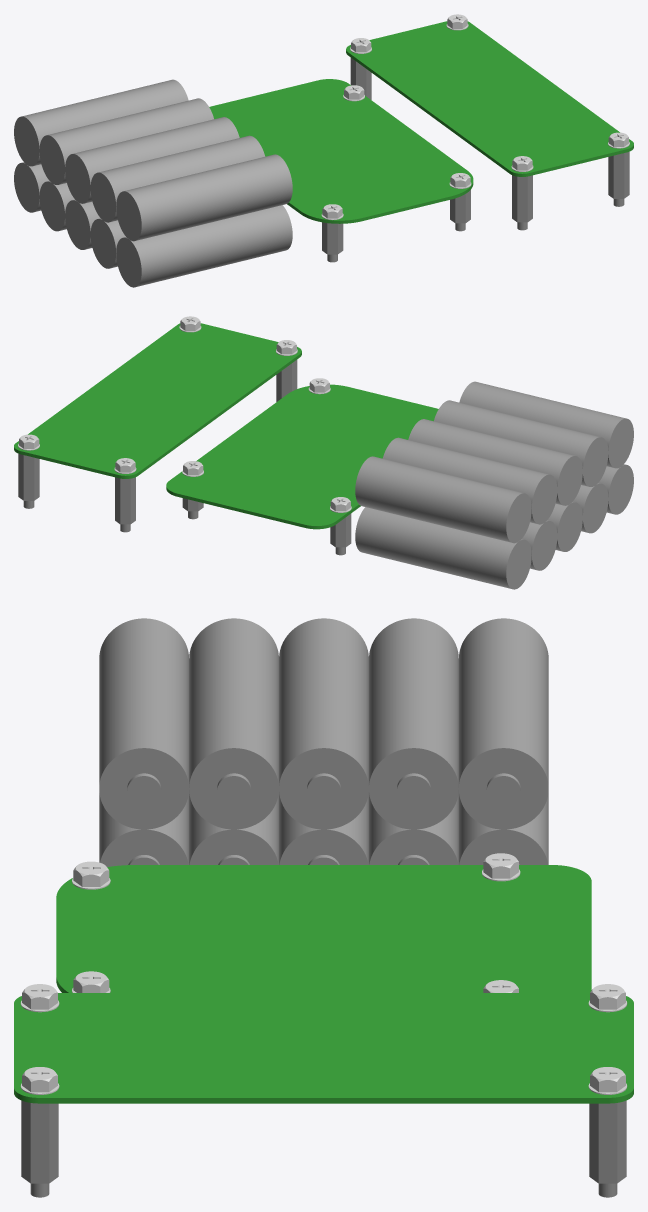
3 views of the same model, one above another, from view 1: azimuth 30°, elevation 25°; view 2: azimuth 150°, elevation 25°; view 3: azimuth 270°, elevation 25° (orthographic). The views are drawn at different scales.
Parts seen in each view (by area): view 1: out-motorcontroller-board, out-controller-board, out-battpack-battery_009, out-battpack-battery_008, out-battpack-battery_007, out-battpack-battery_003, out-battpack-battery_005, out-battpack-battery_001, out-battpack-battery_006, out-battpack-battery_002, out-battpack-battery_000, out-battpack-battery_004 (+5 smaller); view 2: out-motorcontroller-board, out-controller-board, out-battpack-battery_001, out-battpack-battery_000, out-battpack-battery_003, out-battpack-battery_007, out-battpack-battery_005, out-battpack-battery_009, out-battpack-battery_002, out-battpack-battery_006, out-battpack-battery_008, out-battpack-battery_004 (+4 smaller); view 3: out-controller-board, out-motorcontroller-board, out-battpack-battery_009, out-battpack-battery_001, out-battpack-battery_007, out-battpack-battery_003, out-battpack-battery_005, out-battpack-battery_008, out-battpack-battery_006, out-battpack-battery_002, out-battpack-battery_004, out-battpack-battery_000 (+8 smaller).
Boxes of the visible parts, x1,y1,x2,y2 form: out-motorcontroller-board: (346,21,633,176); out-controller-board: (209,79,473,223); out-battpack-battery_009: (116,154,292,241); out-battpack-battery_008: (116,205,292,287); out-battpack-battery_007: (90,135,265,222); out-battpack-battery_003: (39,98,213,184); out-battpack-battery_005: (65,117,239,203); out-battpack-battery_001: (14,79,188,166); out-battpack-battery_006: (90,218,125,268); out-battpack-battery_002: (39,181,74,231); out-battpack-battery_000: (14,162,49,212); out-battpack-battery_004: (65,199,100,249); out-motorcontroller-board: (14,323,301,478); out-controller-board: (166,384,438,529); out-battpack-battery_001: (355,456,531,543); out-battpack-battery_000: (355,507,531,589); out-battpack-battery_003: (382,437,557,524); out-battpack-battery_007: (434,400,608,486); out-battpack-battery_005: (408,419,582,505); out-battpack-battery_009: (459,381,633,468); out-battpack-battery_002: (522,520,557,570); out-battpack-battery_006: (573,483,608,533); out-battpack-battery_008: (598,464,633,514); out-battpack-battery_004: (547,501,582,551); out-controller-board: (56,865,591,992); out-motorcontroller-board: (14,993,633,1103); out-battpack-battery_009: (99,618,188,829); out-battpack-battery_001: (459,618,548,829); out-battpack-battery_007: (189,618,278,829); out-battpack-battery_003: (369,618,458,829); out-battpack-battery_005: (279,618,368,829); out-battpack-battery_008: (99,793,188,866); out-battpack-battery_006: (189,790,278,864); out-battpack-battery_002: (369,790,458,864); out-battpack-battery_004: (279,792,368,864); out-battpack-battery_000: (459,793,548,864).
Size of the model in its own units: 0.1551 by 0.032 by 0.1.
